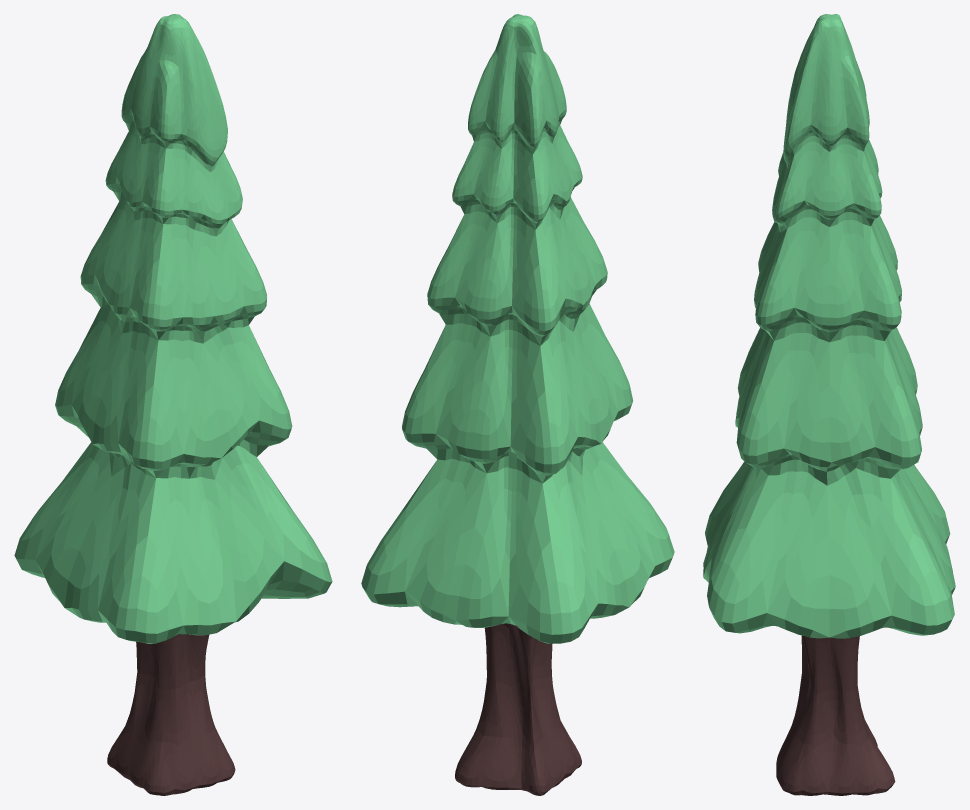
File: Tree.fbx
3 views of the same model, side by side, from view 1: azimuth 30°, elevation 25°; view 2: azimuth 150°, elevation 25°; view 3: azimuth 270°, elevation 25° (orthographic).
Parts seen in each view (by area): view 1: Cube.001; view 2: Cube.001; view 3: Cube.001.
Part boxes in pixels (bbox=[...]): Cube.001: bbox=[14, 14, 332, 795]; Cube.001: bbox=[361, 14, 674, 795]; Cube.001: bbox=[703, 14, 955, 795].
Size of the model in its own units: 295 by 966 by 291.
